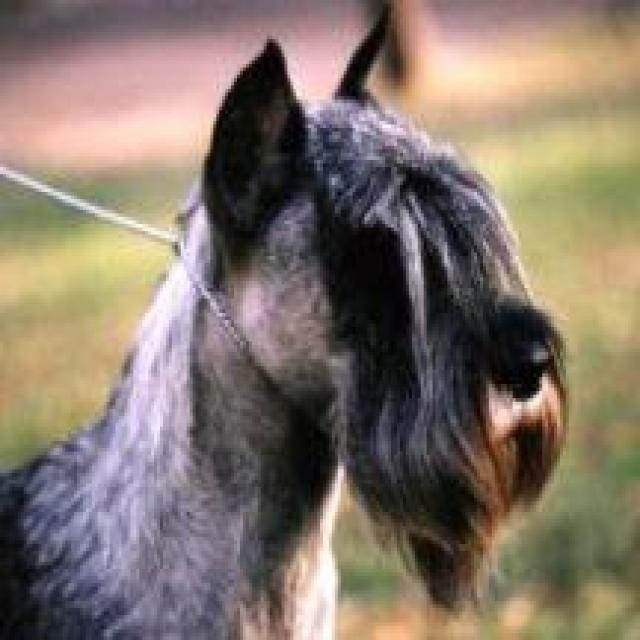standard_schnauzer: (3, 7, 572, 637)
